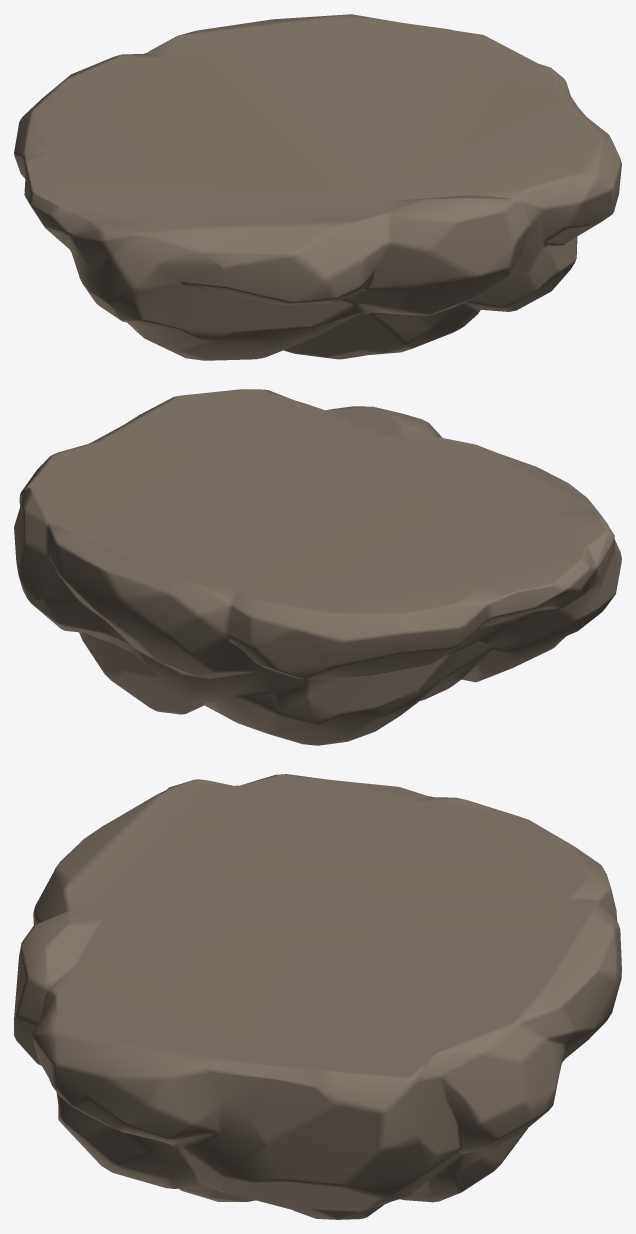
The model's file is IlhaPP3.fbx.
The picture shows the model from 3 angles, top to bottom: view 1: azimuth 30°, elevation 25°; view 2: azimuth 150°, elevation 25°; view 3: azimuth 270°, elevation 25°; orthographic projection. The views are drawn at different scales.
Visible parts, largest first — view 1: IlhaPP3; view 2: IlhaPP3; view 3: IlhaPP3.
Part boxes in pixels (box(x1,y1,x2,y2)): IlhaPP3: box(14, 14, 621, 360); IlhaPP3: box(14, 389, 621, 745); IlhaPP3: box(14, 774, 621, 1219).
Size of the model in its own units: 795 by 300 by 667.
